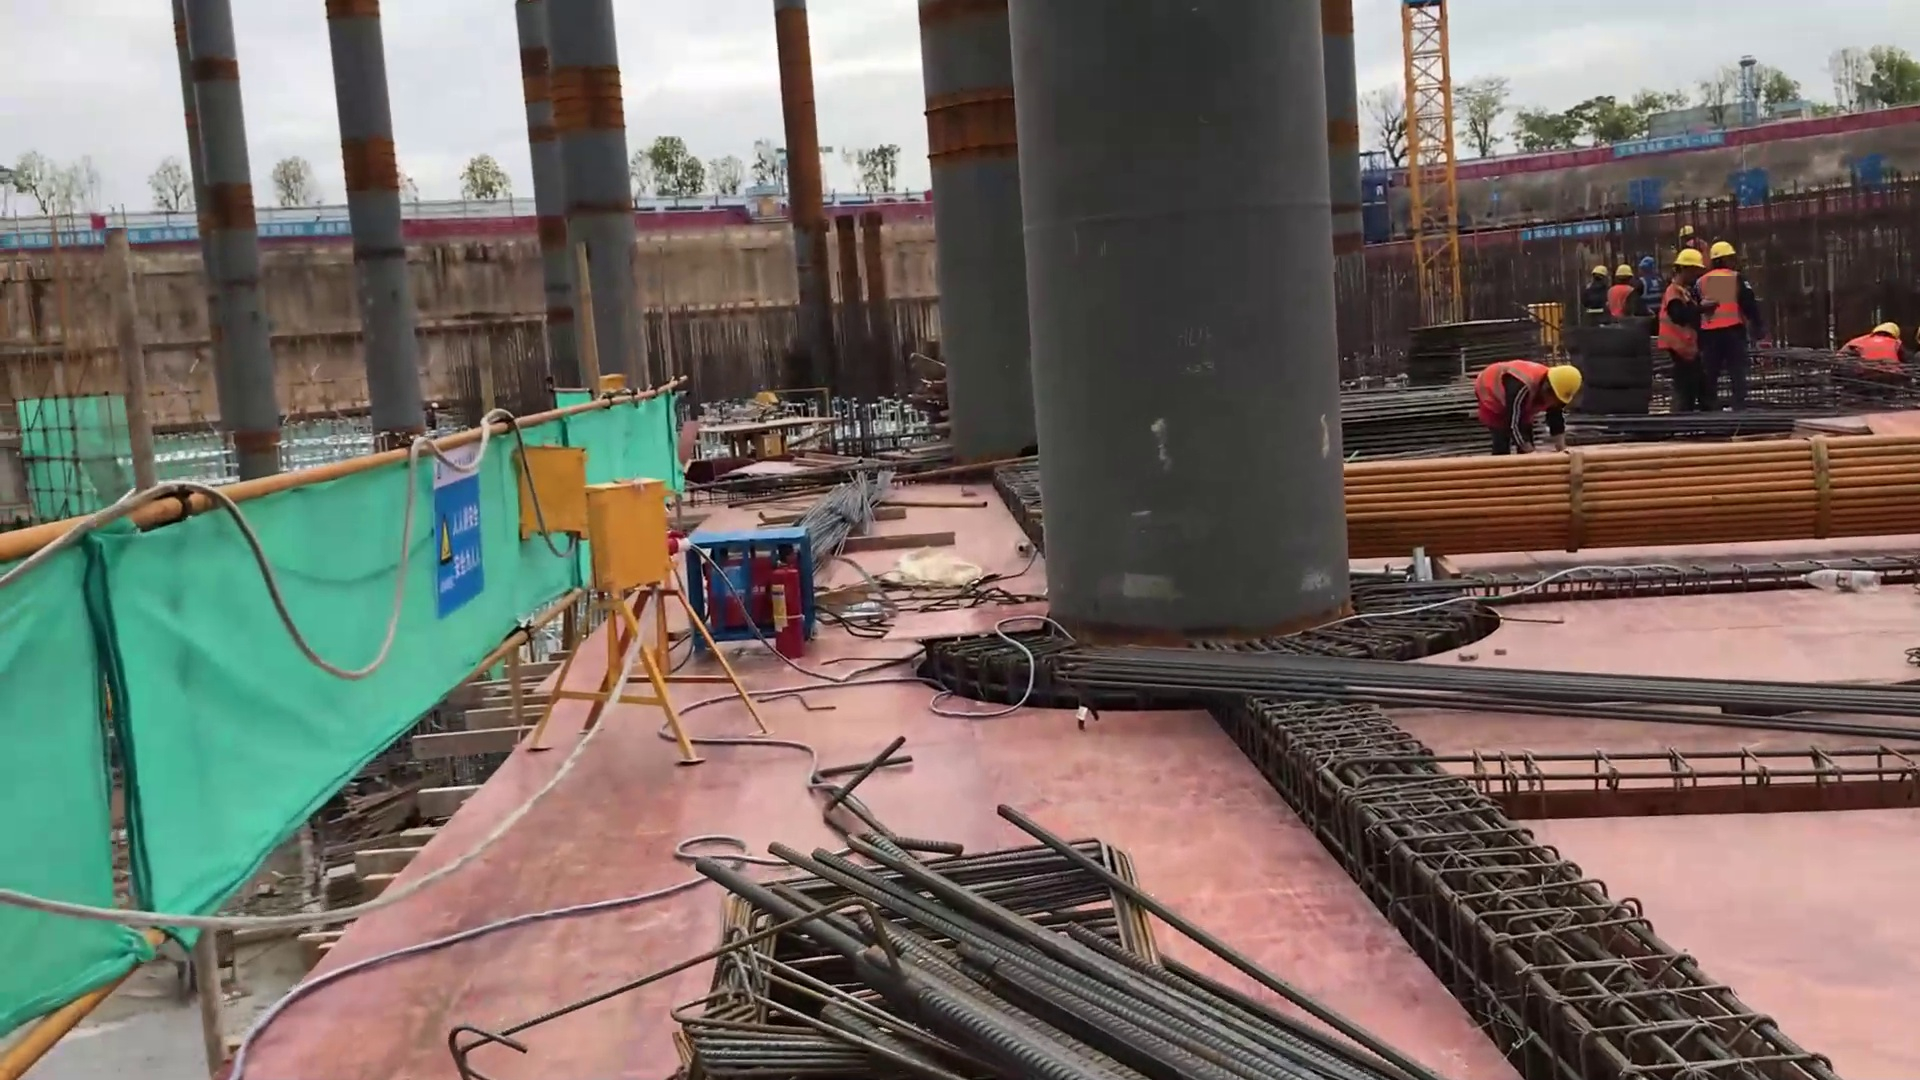helmet: (1554, 359, 1578, 406), (1671, 248, 1702, 268), (1708, 239, 1733, 263), (1874, 321, 1903, 336), (1592, 262, 1606, 278), (1677, 225, 1698, 233), (1619, 264, 1629, 277), (1638, 258, 1650, 266)
person: (1466, 356, 1579, 451), (1711, 242, 1763, 391), (1662, 249, 1705, 397), (1839, 313, 1906, 371), (1611, 259, 1634, 318), (1636, 248, 1660, 301), (1591, 260, 1611, 314), (1672, 217, 1700, 242)
vest: (1471, 359, 1555, 431), (1664, 279, 1694, 361), (1704, 272, 1738, 336), (1848, 329, 1899, 356), (1637, 272, 1660, 306), (1610, 284, 1634, 313), (1584, 280, 1606, 306)
